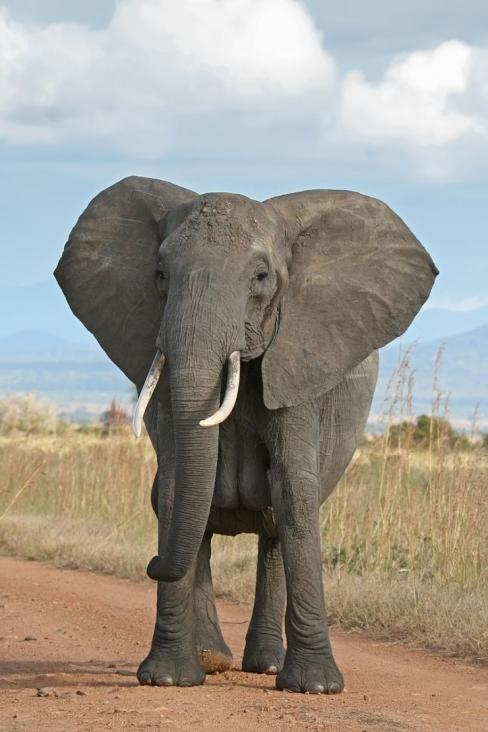Elephant: (37, 170, 454, 705)
